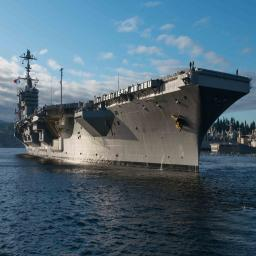Portanaves: (13, 47, 253, 176)
